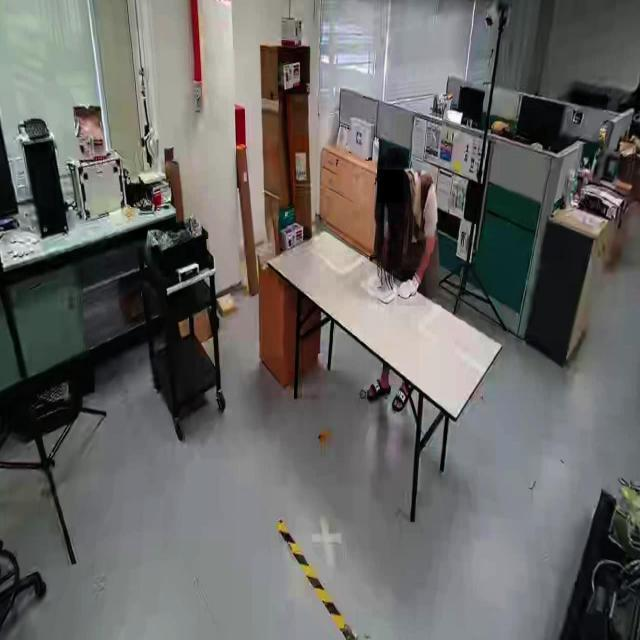gloves: (397, 270, 426, 306)
